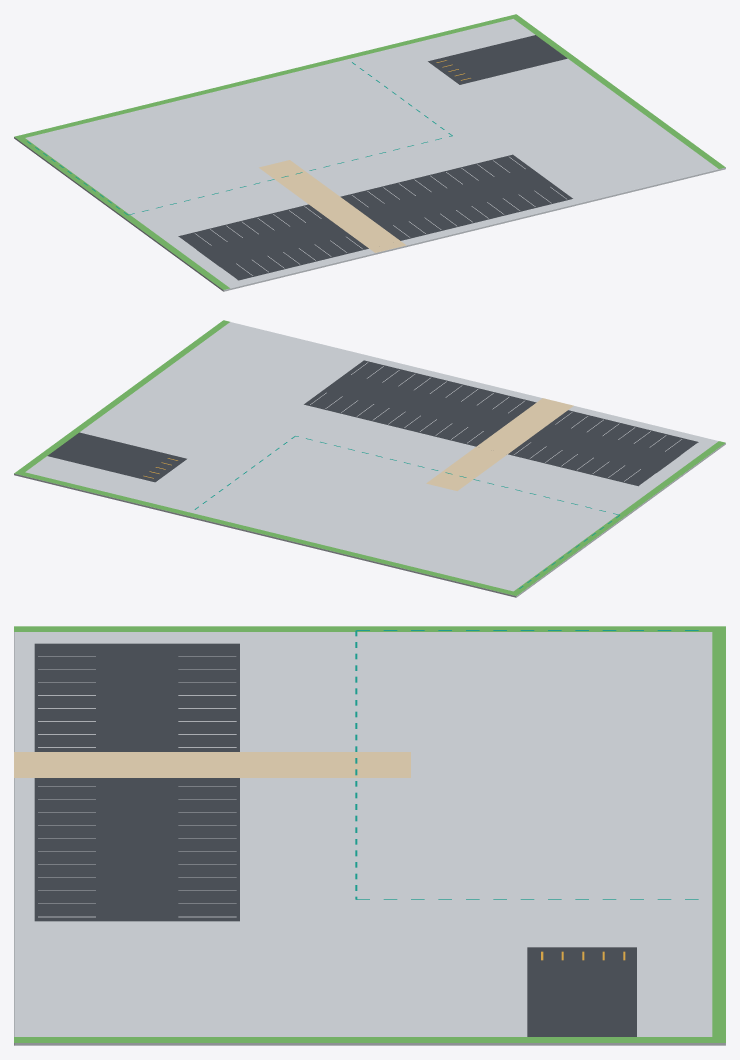
The model's file is CM_Plot_Pad_Supermarket.fbx.
The picture shows the model from 3 angles, top to bottom: view 1: azimuth 30°, elevation 25°; view 2: azimuth 150°, elevation 25°; view 3: azimuth 270°, elevation 25°; orthographic projection. The views are drawn at different scales.
Visible parts, largest first — view 1: Pad; view 2: Pad; view 3: Pad.
Boxes of the visible parts, left/top/right/bottom form: Pad: left=14, top=14, right=725, bottom=291; Pad: left=14, top=320, right=725, bottom=597; Pad: left=14, top=626, right=725, bottom=1045.
Bounding box in the file's own units: 288 × 208 × 1.01.
1 material, 1 textured.
